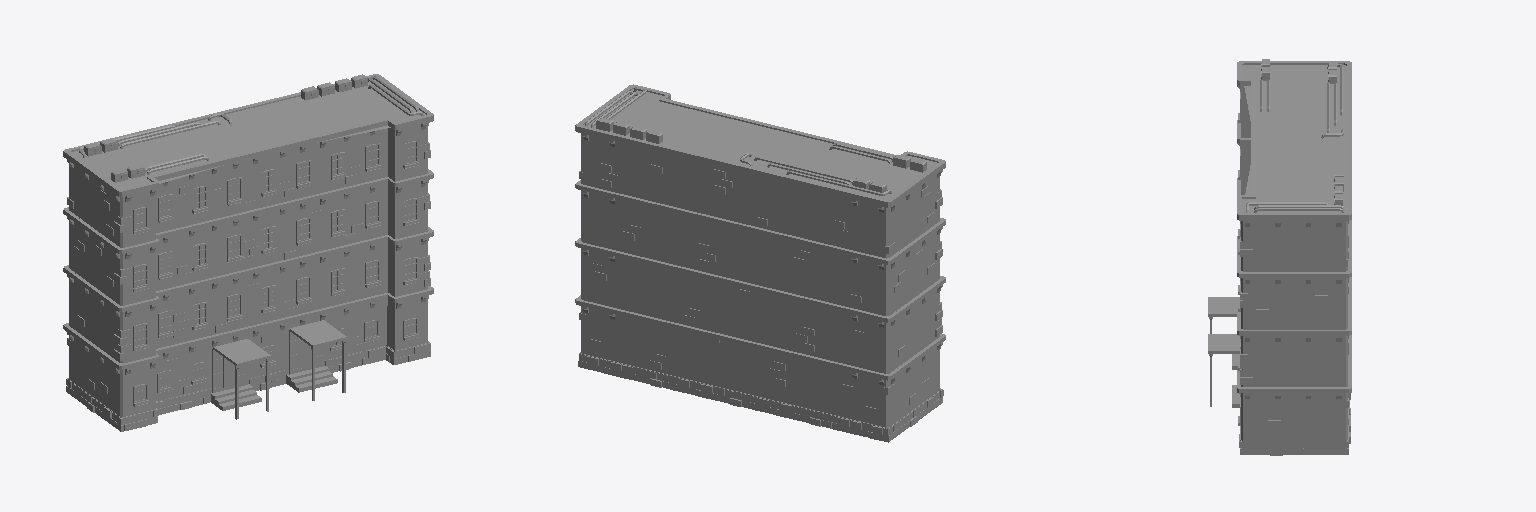
The model's file is 4Story_Wide_2Doors.obj.
The picture shows the model from 3 angles: view 1: azimuth 30°, elevation 25°; view 2: azimuth 150°, elevation 25°; view 3: azimuth 270°, elevation 25°; orthographic projection.
Parts seen in each view (by area): view 1: 4Story_Wide_2Doors_Cube.022; view 2: 4Story_Wide_2Doors_Cube.022; view 3: 4Story_Wide_2Doors_Cube.022.
Boxes of the visible parts, x1,y1,x2,y2 form: 4Story_Wide_2Doors_Cube.022: [63, 74, 433, 431]; 4Story_Wide_2Doors_Cube.022: [575, 84, 945, 442]; 4Story_Wide_2Doors_Cube.022: [1208, 59, 1351, 455].
Bounding box in the file's own units: 6.83 × 5.15 × 2.7.